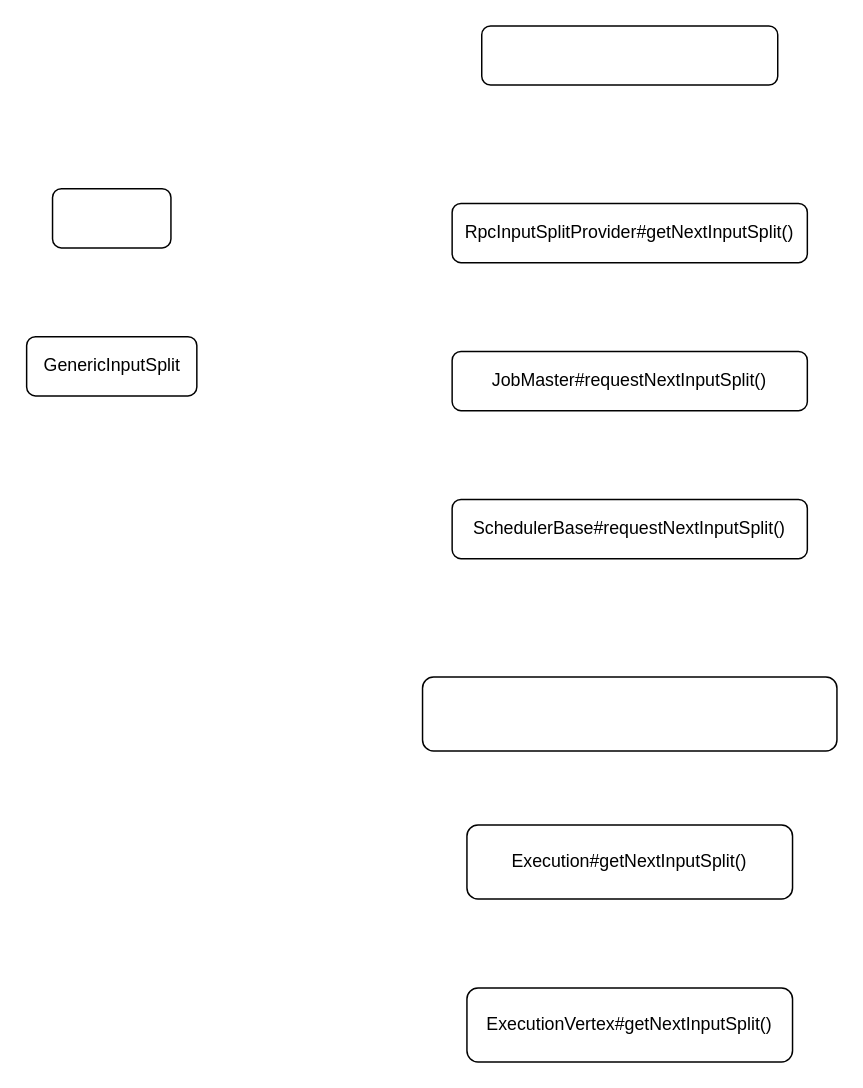
Image size: 863x1088. Some labels were removed from this diagram. The shapes that lost their labels are listed below. From the top down, each one's box as (x1, y1, x2, y2) in pixels, then its label:
(480, 24, 778, 85): DataSourceTask#getInputSplits()
(51, 187, 171, 248): interface InputSplit
(421, 676, 837, 751): ExecutionGraphHandler#requestNextInputSplit()
